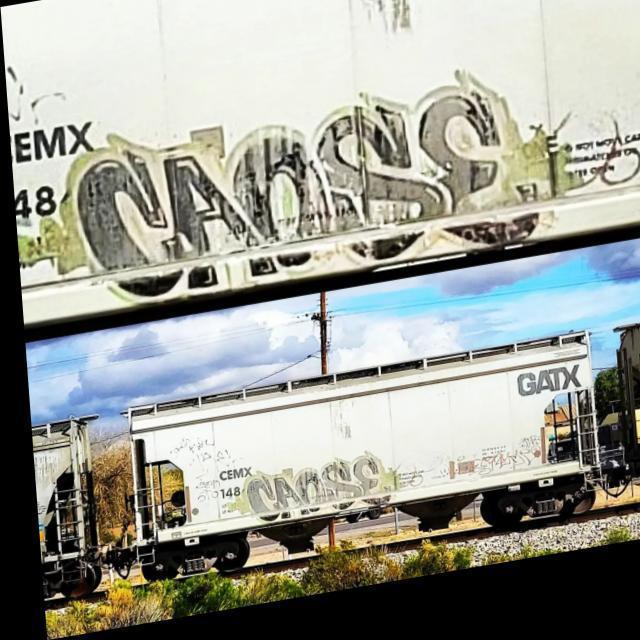nonspitting: (76, 89, 538, 295), (247, 458, 378, 521), (517, 364, 583, 396)
